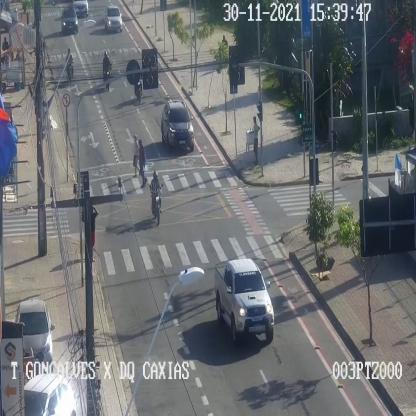car: (214, 257, 274, 344), (15, 300, 55, 363), (24, 374, 75, 415), (160, 100, 196, 152), (103, 4, 124, 30), (61, 7, 79, 35), (71, 0, 89, 16)
motorbike: (150, 171, 162, 224), (101, 51, 112, 91), (66, 49, 74, 86), (134, 78, 144, 103)
person: (250, 117, 260, 166), (138, 136, 147, 188), (89, 206, 97, 263), (132, 135, 142, 178)
